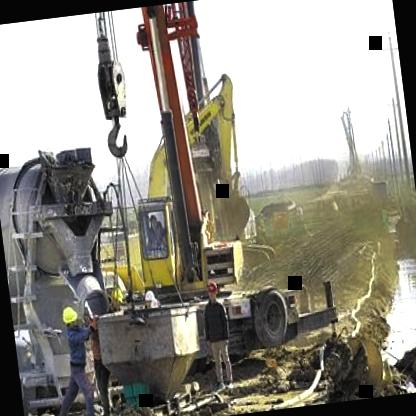helmet: (57, 304, 82, 336), (202, 276, 222, 308)
